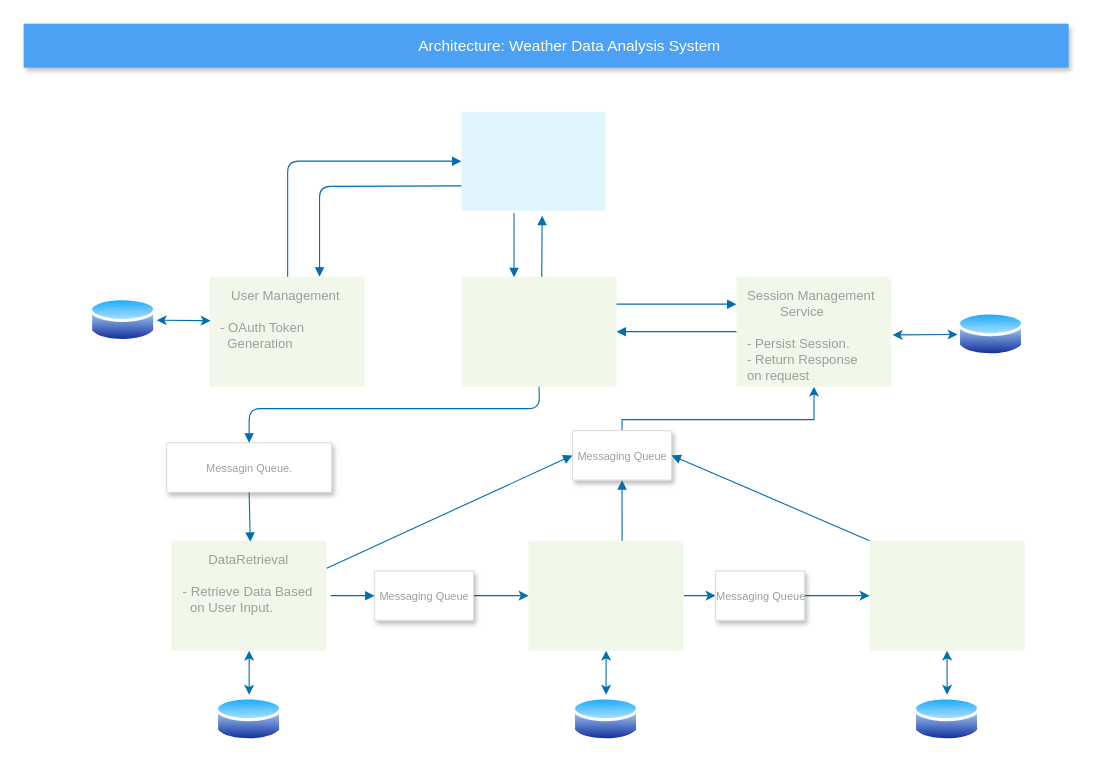
This 1093x763 diagram has some shape labels left out. Each missing label, with the centre of its shape:
API Gateway. - Redirect requests. - Return Response.: the point at 538,331
Data Visualization. - Returns the data that can be visualized.: the point at 946,595
DataModelling - Perform data processing.: the point at 605,595
UI - Login. - Send Request. - Retrieve Response: the point at 533,160
